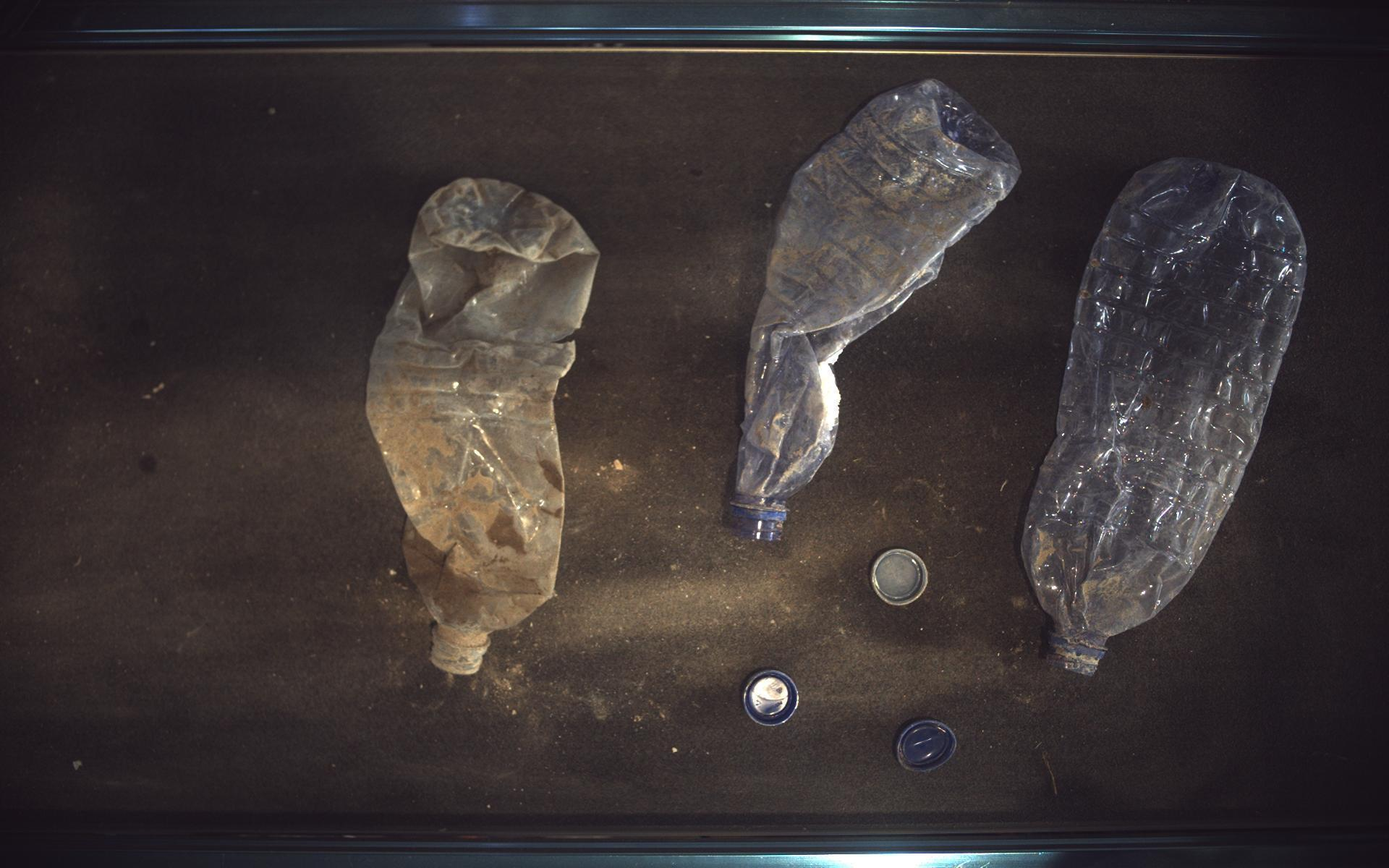general_w: (1024, 158, 1309, 676), (731, 78, 1021, 542), (366, 177, 600, 676), (872, 549, 930, 608), (897, 721, 959, 773), (744, 671, 800, 728)
